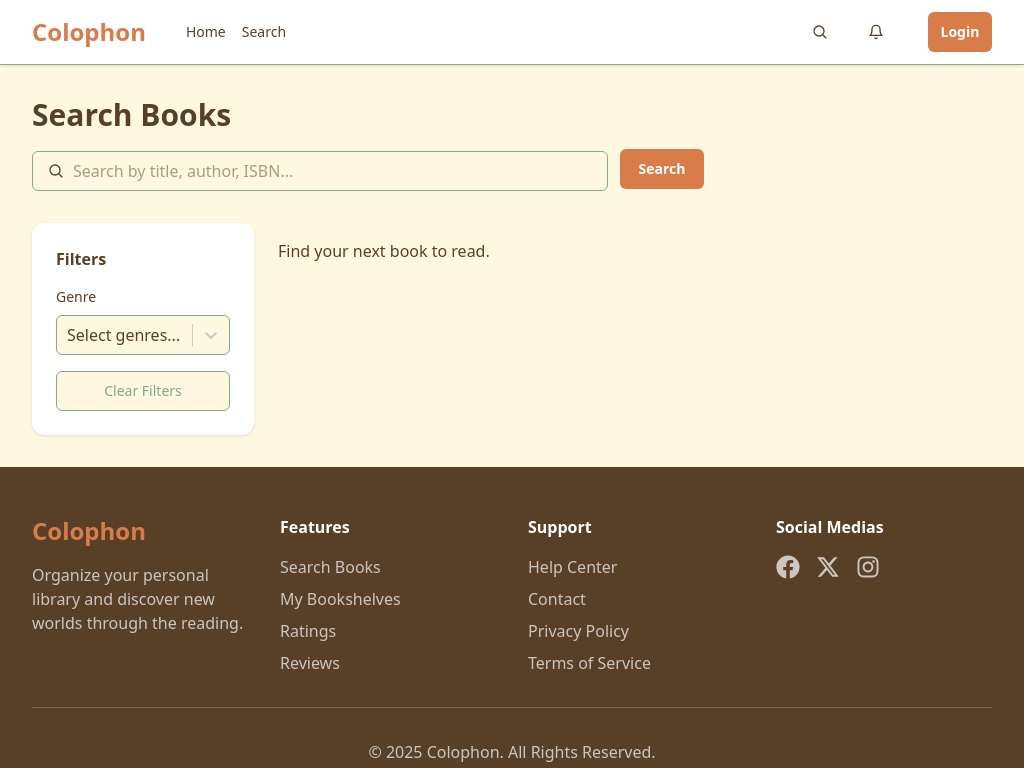
SearchPage › should display "No books found" message for empty results
Type "empty" into the field with placeholder "Search by title, author, ISBN..." at (320, 171), box [32,151,608,191]
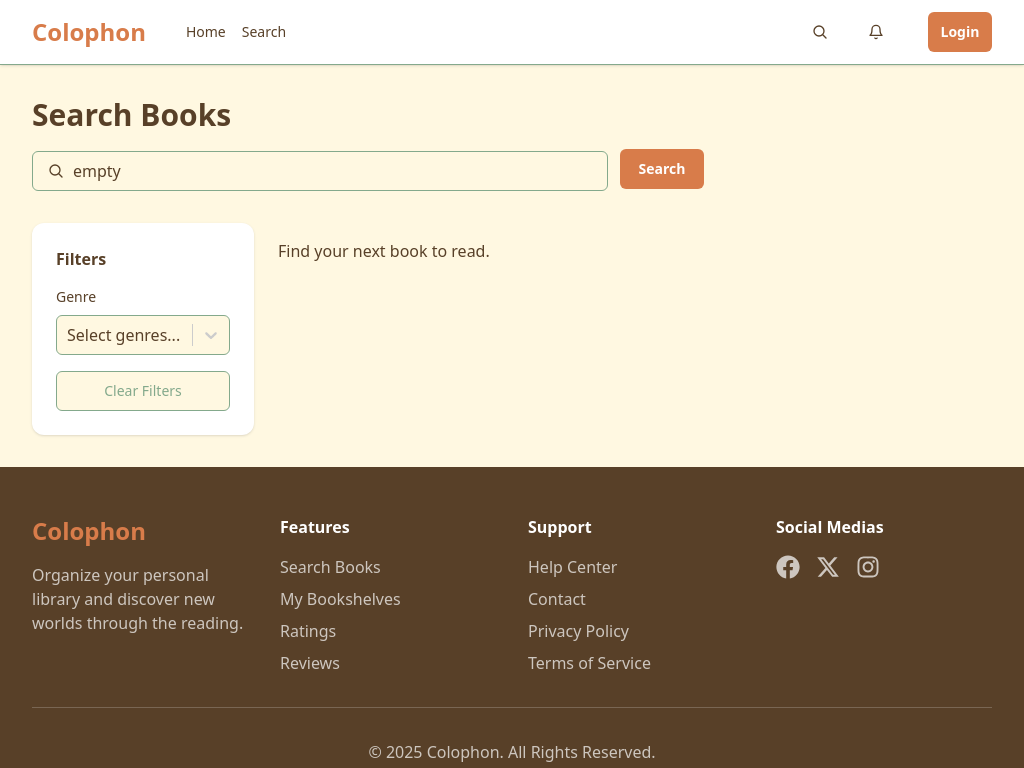
Click the button "Search" at (662, 169), box [620,149,704,189]
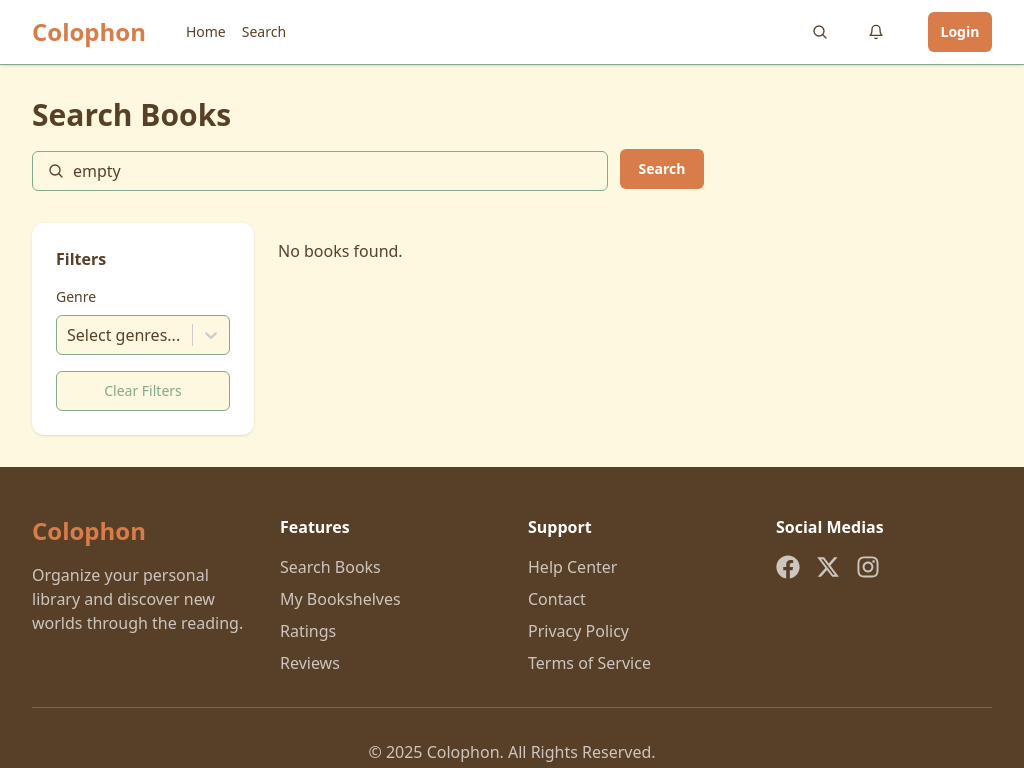
Now the text "No books found." is shown, box [278,240,403,262]
